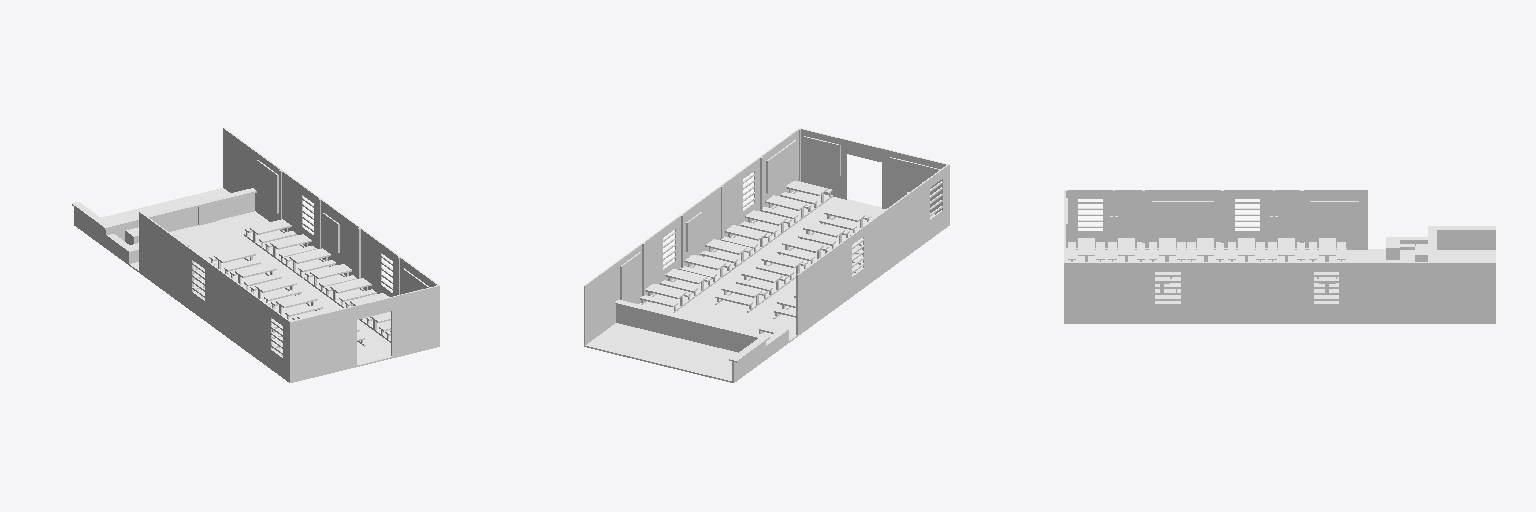
The model's file is mess2.obj.
3 renders of one model, left to right at view 1: azimuth 30°, elevation 25°; view 2: azimuth 150°, elevation 25°; view 3: azimuth 270°, elevation 25°, orthographic.
Parts seen in each view (by area): view 1: object 1; view 2: object 1; view 3: object 1.
Boxes of the visible parts, x1=… form: object 1: x1=72, y1=128, x2=439, y2=382; object 1: x1=584, y1=128, x2=949, y2=382; object 1: x1=1064, y1=190, x2=1495, y2=323.
Bounding box in the file's own units: 10.5 × 4 × 25.6.